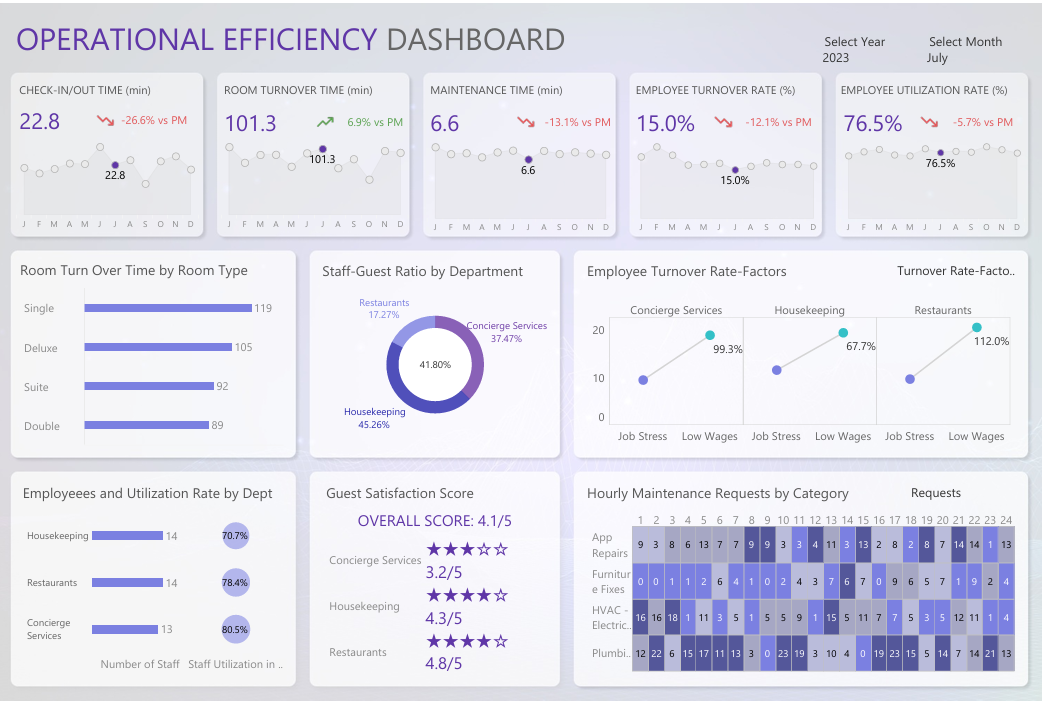

Layout of this report page (visuals, bound fields, positions):
{"tool":"tableau","page":{"name":"Operational Efficiency Dashboard","canvas":[1500,1000],"ordinal":0},"visuals":[{"type":"image","param":"Image/H&T_Bookings_BG.png","box":[0,0,1500,1000]},{"type":"text","box":[19,1,890,98]},{"type":"blank","box":[909,1,270,98]},{"type":"parameter","param":"[Parameters].[Parameter 1 1]","box":[1179,1,150,98]},{"type":"parameter","param":"[Parameters].[Parameter 2 1]","box":[1329,1,150,98]},{"type":"blank","box":[1479,1,20,98]},{"type":"blank","box":[298,99,20,234]},{"type":"text","box":[318,99,276,49]},{"type":"blank","box":[594,99,20,234]},{"type":"text","box":[614,99,275,49]},{"type":"blank","box":[889,99,20,234]},{"type":"text","box":[909,99,278,49]},{"type":"blank","box":[1187,99,20,234]},{"type":"text","box":[1207,99,272,49]},{"type":"blank","box":[1479,99,20,234]},{"type":"text","box":[24,104,269,40]},{"type":"worksheet","title":"Average Check-in/out BAN","mark":"Text","box":[24,144,80,48]},{"type":"worksheet","title":"Average Check-in/out % Growth (2)","mark":"Text","cols":["Calculation_1973139609358921763","Calculation_1973139609358975012"],"box":[104,144,189,48]},{"type":"worksheet","title":"Average Room TurnOver Time BAN ","mark":"Text","box":[318,148,100,44]},{"type":"worksheet","title":"Average Room TurnOver Time % Growth (2)","mark":"Text","cols":["Calculation_1973139609359802406","Calculation_1973139609360642089"],"box":[418,148,176,44]},{"type":"worksheet","title":"Average Maintenance Response Time BAN","mark":"Text","box":[614,148,90,44]},{"type":"worksheet","title":"Average Maintenance Response Time % Growth (2)","mark":"Text","cols":["Calculation_1973139609368838188","Calculation_1973139609368969262"],"box":[704,148,185,44]},{"type":"worksheet","title":"Average Employee Turnover Rate BAN","mark":"Text","box":[909,148,109,44]},{"type":"worksheet","title":"Average Employee Turnover Rate % Growth (2)","mark":"Text","cols":["Calculation_1973139609371074614","Calculation_1973139609370972213"],"box":[1018,148,169,44]},{"type":"worksheet","title":"Average Staff Util Rate BAN","mark":"Text","box":[1207,148,107,44]},{"type":"worksheet","title":"Average Staff Util Rate % Growth (2)","mark":"Text","cols":["Calculation_1973139609371689016","Calculation_1973139609371713593"],"box":[1314,148,165,44]},{"type":"worksheet","title":"Average Check-in/out Time Sparkline","mark":"Automatic","rows":["Average Check-In Time (minutes)","Average Check-In Time (minutes)"],"cols":["Date"],"box":[24,192,269,136]},{"type":"worksheet","title":"Avg Room Turnover Time Sparkline","mark":"Automatic","rows":["Average Room Turnover Time (minutes)","Average Room Turnover Time (minutes)"],"cols":["Date"],"box":[318,192,276,141]},{"type":"worksheet","title":"Avg Maintenance Response Time Sparkline ","mark":"Automatic","rows":["Average Response Time (minutes) (hotel main)","Average Response Time (minutes) (hotel main)"],"cols":["Year-Month (hotel main)"],"box":[614,192,275,141]},{"type":"worksheet","title":"Avg Employee Turnover Rate","mark":"Automatic","rows":["Turnover Rate (%)","Turnover Rate (%)"],"cols":["Year-Month (TurnOver Data)"],"box":[909,192,278,141]},{"type":"worksheet","title":"Avg Staff Util Rate ","mark":"Automatic","rows":["Staff Utilization Rate (%)","Staff Utilization Rate (%)"],"cols":["Date (Cust Satisfcation, Staff Util)"],"box":[1207,192,272,141]},{"type":"blank","box":[429,353,20,299]},{"type":"blank","box":[809,353,20,299]},{"type":"blank","box":[1479,353,20,299]},{"type":"text","box":[29,363,390,38]},{"type":"text","box":[459,363,340,40]},{"type":"text","box":[839,363,313,40]},{"type":"blank","box":[1152,363,67,40]},{"type":"blank","box":[1219,363,67,40]},{"type":"parameter","param":"[Parameters].[Parameter 6]","box":[1286,363,183,40]},{"type":"worksheet","title":"Check-In/Out Time/Room Turn Over by Room Type","mark":"Bar","rows":["Room Type"],"cols":["Calculation_1329406336581902355"],"box":[29,401,390,241]},{"type":"worksheet","title":"% of Staff by Department-donut","mark":"Pie","rows":["Calculation_1329406336586182684","Calculation_1329406336586182684"],"box":[459,403,340,239]},{"type":"worksheet","title":"Emp Turnover Rate by Department-Slope Chart","mark":"Line","rows":["Turnover Rate (%) (copy)_1329406336578981905","Turnover Rate (%) (copy)_1329406336578981905"],"cols":["Department (TurnOver Data)","Reason for Leaving"],"box":[839,403,630,239]},{"type":"blank","box":[429,672,20,305]},{"type":"blank","box":[809,672,20,305]},{"type":"blank","box":[1479,672,20,305]},{"type":"text","box":[29,682,390,40]},{"type":"text","box":[459,682,340,40]},{"type":"text","box":[839,682,467,40]},{"type":"parameter","param":"[Parameters].[Parameter 5]","box":[1306,682,163,40]},{"type":"worksheet","title":"Employee Staff Util Rate By Department (2)","mark":"Bar","rows":["Department"],"cols":["Number of Staff (copy)_1329406336585351190","Calculation_1973139609339789336"],"box":[29,722,390,245]},{"type":"worksheet","title":"Csatisfcation Scores-Overall","mark":"Text","box":[459,722,340,40]},{"type":"worksheet","title":"Avg Response Time requests by hour (2)","mark":"Square","rows":["Maintenance Category (hotel main)"],"cols":["Hour (hotel main)"],"box":[839,722,630,245]},{"type":"worksheet","title":"Csatisfcation Scores-Star Chart","mark":"Text","rows":["Department","Calculation_279786149565296640"],"box":[459,762,340,205]}]}

Visuals, with their boxes in screenshot pixels (x1, y1, x2, y2), scaled from the page's 1500x1000 canvas onto the 1045x705 screenshot:
image: <region>0, 0, 1044, 704</region>
text: <region>13, 1, 633, 70</region>
blank: <region>633, 1, 821, 70</region>
parameter: <region>821, 1, 926, 70</region>
parameter: <region>926, 1, 1030, 70</region>
blank: <region>1030, 1, 1044, 70</region>
blank: <region>208, 70, 222, 235</region>
text: <region>222, 70, 414, 104</region>
blank: <region>414, 70, 428, 235</region>
text: <region>428, 70, 619, 104</region>
blank: <region>619, 70, 633, 235</region>
text: <region>633, 70, 827, 104</region>
blank: <region>827, 70, 841, 235</region>
text: <region>841, 70, 1030, 104</region>
blank: <region>1030, 70, 1044, 235</region>
text: <region>17, 73, 204, 102</region>
"Average Check-in/out BAN" worksheet (Text marks): <region>17, 102, 72, 135</region>
"Average Check-in/out % Growth (2)" worksheet (Text marks): <region>72, 102, 204, 135</region>
"Average Room TurnOver Time BAN " worksheet (Text marks): <region>222, 104, 291, 135</region>
"Average Room TurnOver Time % Growth (2)" worksheet (Text marks): <region>291, 104, 414, 135</region>
"Average Maintenance Response Time BAN" worksheet (Text marks): <region>428, 104, 490, 135</region>
"Average Maintenance Response Time % Growth (2)" worksheet (Text marks): <region>490, 104, 619, 135</region>
"Average Employee Turnover Rate BAN" worksheet (Text marks): <region>633, 104, 709, 135</region>
"Average Employee Turnover Rate % Growth (2)" worksheet (Text marks): <region>709, 104, 827, 135</region>
"Average Staff Util Rate BAN" worksheet (Text marks): <region>841, 104, 915, 135</region>
"Average Staff Util Rate % Growth (2)" worksheet (Text marks): <region>915, 104, 1030, 135</region>
"Average Check-in/out Time Sparkline" worksheet: <region>17, 135, 204, 231</region>
"Avg Room Turnover Time Sparkline" worksheet: <region>222, 135, 414, 235</region>
"Avg Maintenance Response Time Sparkline " worksheet: <region>428, 135, 619, 235</region>
"Avg Employee Turnover Rate" worksheet: <region>633, 135, 827, 235</region>
"Avg Staff Util Rate " worksheet: <region>841, 135, 1030, 235</region>
blank: <region>299, 249, 313, 460</region>
blank: <region>564, 249, 578, 460</region>
blank: <region>1030, 249, 1044, 460</region>
text: <region>20, 256, 292, 283</region>
text: <region>320, 256, 557, 284</region>
text: <region>585, 256, 803, 284</region>
blank: <region>803, 256, 849, 284</region>
blank: <region>849, 256, 896, 284</region>
parameter: <region>896, 256, 1023, 284</region>
"Check-In/Out Time/Room Turn Over by Room Type" worksheet (Bar marks): <region>20, 283, 292, 453</region>
"% of Staff by Department-donut" worksheet (Pie marks): <region>320, 284, 557, 453</region>
"Emp Turnover Rate by Department-Slope Chart" worksheet (Line marks): <region>585, 284, 1023, 453</region>
blank: <region>299, 474, 313, 689</region>
blank: <region>564, 474, 578, 689</region>
blank: <region>1030, 474, 1044, 689</region>
text: <region>20, 481, 292, 509</region>
text: <region>320, 481, 557, 509</region>
text: <region>585, 481, 910, 509</region>
parameter: <region>910, 481, 1023, 509</region>
"Employee Staff Util Rate By Department (2)" worksheet (Bar marks): <region>20, 509, 292, 682</region>
"Csatisfcation Scores-Overall" worksheet (Text marks): <region>320, 509, 557, 537</region>
"Avg Response Time requests by hour (2)" worksheet (Square marks): <region>585, 509, 1023, 682</region>
"Csatisfcation Scores-Star Chart" worksheet (Text marks): <region>320, 537, 557, 682</region>
